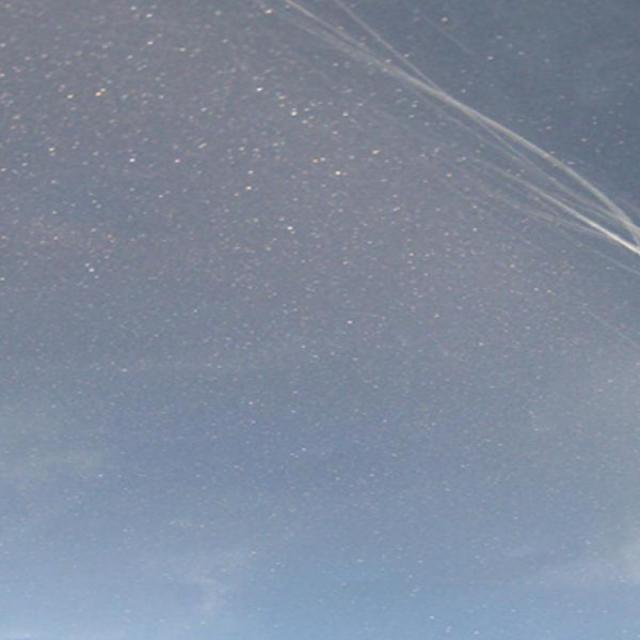scratch: (299, 19, 640, 272)
